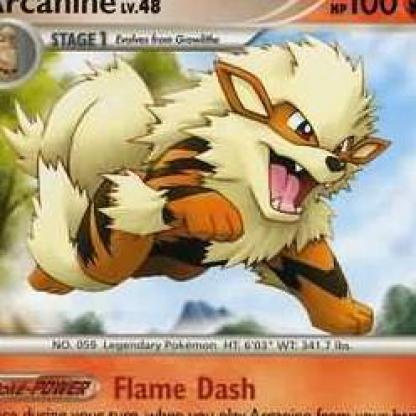Arcanine: (40, 55, 394, 328)
